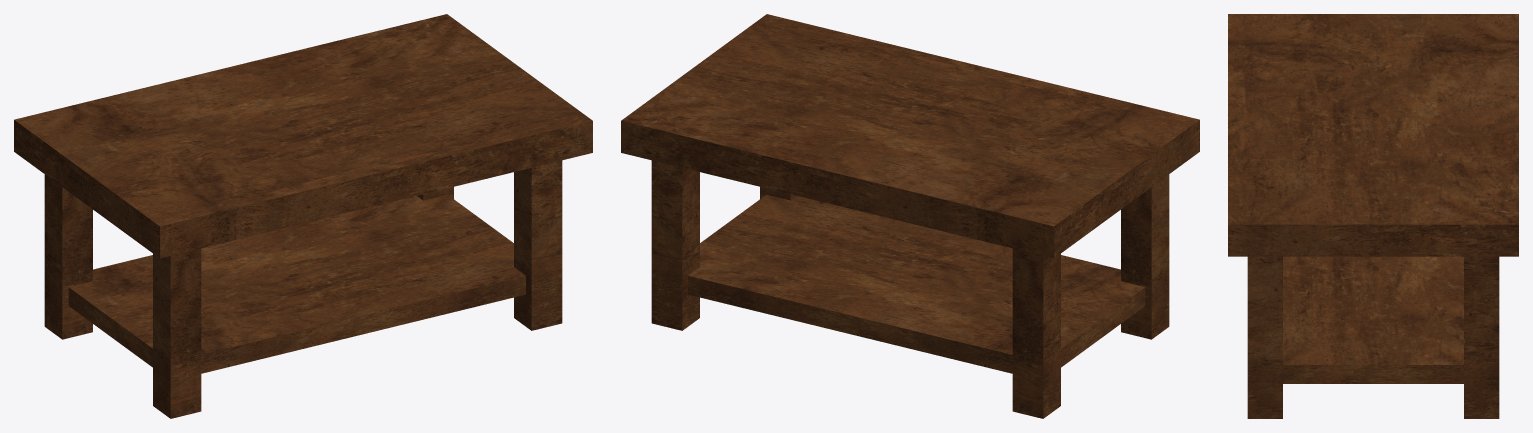
File: living-coffee-table.glb
3 views of the same model, side by side, from view 1: azimuth 30°, elevation 25°; view 2: azimuth 150°, elevation 25°; view 3: azimuth 270°, elevation 25° (orthographic).
Visible parts, largest first — view 1: 茶几桌面, 茶几下层, 茶几木腿, 茶几木腿.002, 茶几木腿.001; view 2: 茶几桌面, 茶几下层, 茶几木腿.001, 茶几木腿.003, 茶几木腿; view 3: 茶几桌面, 茶几下层, 茶几木腿.002, 茶几木腿.003.
Part boxes in pixels (x1,y1,x2,y2): 茶几桌面: [14, 14, 592, 258]; 茶几下层: [68, 194, 525, 373]; 茶几木腿: [153, 248, 201, 418]; 茶几木腿.002: [514, 160, 562, 330]; 茶几木腿.001: [44, 174, 92, 339]; 茶几桌面: [621, 14, 1199, 258]; 茶几下层: [688, 194, 1145, 373]; 茶几木腿.001: [1012, 248, 1060, 418]; 茶几木腿.003: [651, 160, 699, 330]; 茶几木腿: [1121, 174, 1169, 339]; 茶几桌面: [1228, 14, 1518, 256]; 茶几下层: [1283, 256, 1463, 383]; 茶几木腿.002: [1247, 256, 1282, 418]; 茶几木腿.003: [1464, 256, 1499, 418].
Size of the model in its own units: 2.4 by 1.09 by 1.4.
1 material, 1 textured.
